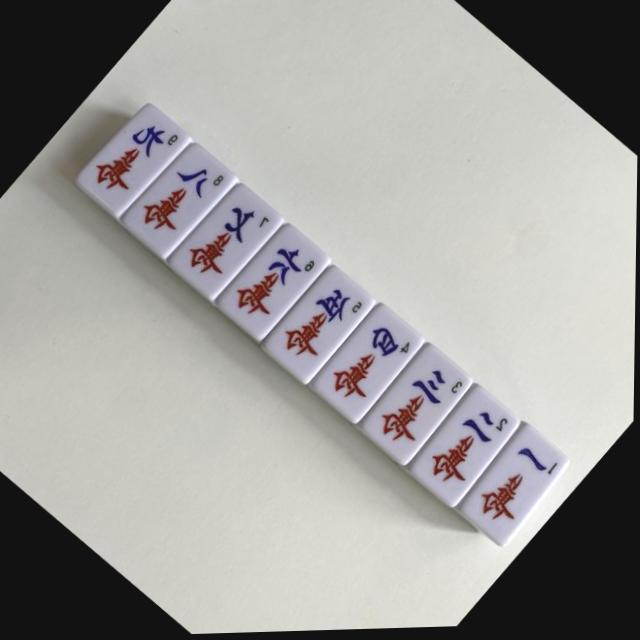sc1: (457, 424, 573, 550)
sc2: (407, 383, 523, 510)
sc3: (357, 342, 476, 470)
sc4: (308, 302, 428, 427)
sc5: (259, 264, 379, 387)
sc6: (214, 222, 333, 344)
sc7: (165, 181, 286, 304)
sc8: (118, 141, 241, 261)
sc9: (72, 101, 193, 220)
